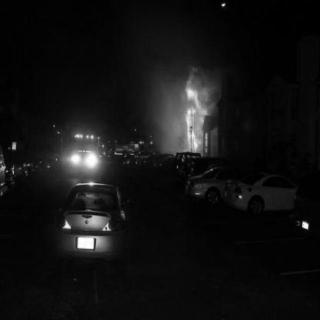Smoke: (151, 54, 181, 152)
other: (68, 148, 105, 176), (73, 124, 99, 144)
